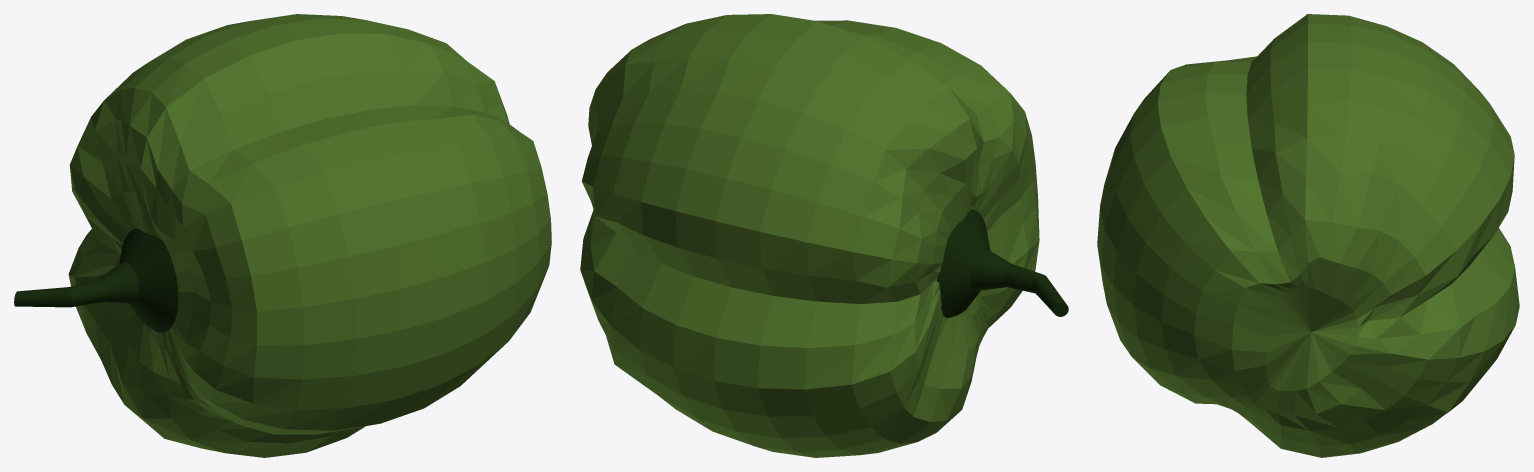
File: CapsicumFruit_green.obj
3 renders of one model, left to right at view 1: azimuth 30°, elevation 25°; view 2: azimuth 150°, elevation 25°; view 3: azimuth 270°, elevation 25°, orthographic. The views are drawn at different scales.
Visible parts, largest first — view 1: Sphere, Cylinder; view 2: Sphere, Cylinder; view 3: Sphere.
Boxes of the visible parts, x1=… form: Sphere: x1=68, y1=14, x2=551, y2=457; Cylinder: x1=14, y1=228, x2=178, y2=332; Sphere: x1=580, y1=14, x2=1039, y2=457; Cylinder: x1=937, y1=209, x2=1068, y2=317; Sphere: x1=1097, y1=14, x2=1519, y2=457.
Size of the model in its own units: 1 by 0.8194 by 0.7948.
